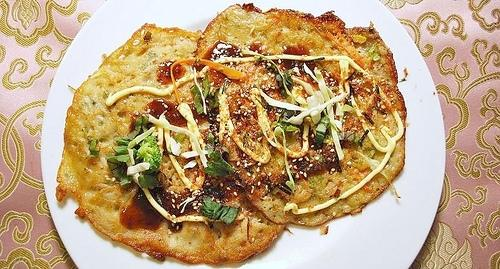broccoli: (199, 197, 240, 225), (134, 135, 163, 172), (190, 84, 204, 115), (316, 123, 326, 135)
carrot: (170, 58, 244, 105)
